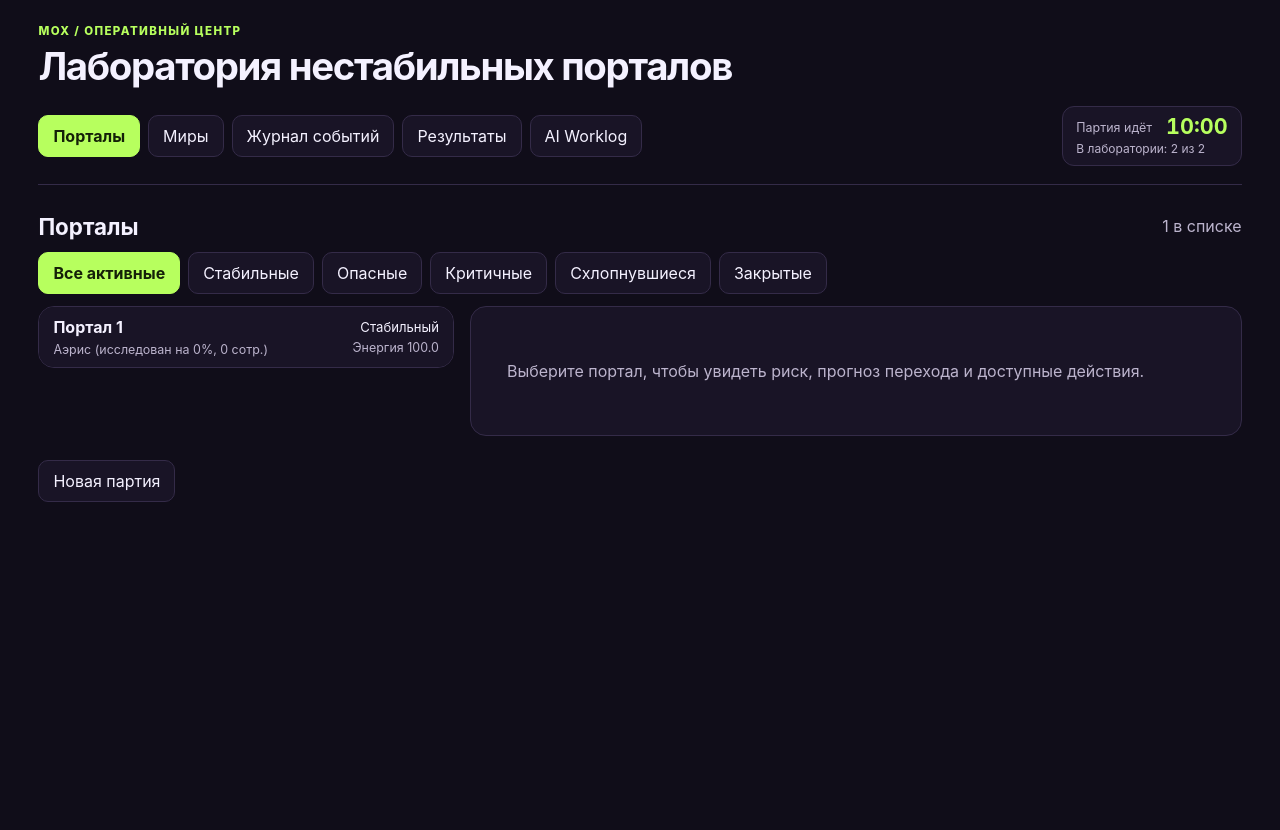
Test case: App › отправляет группу и возвращает её через выбранный портал
Click the button "Портал 1": point(88, 327) [39,307,453,367]
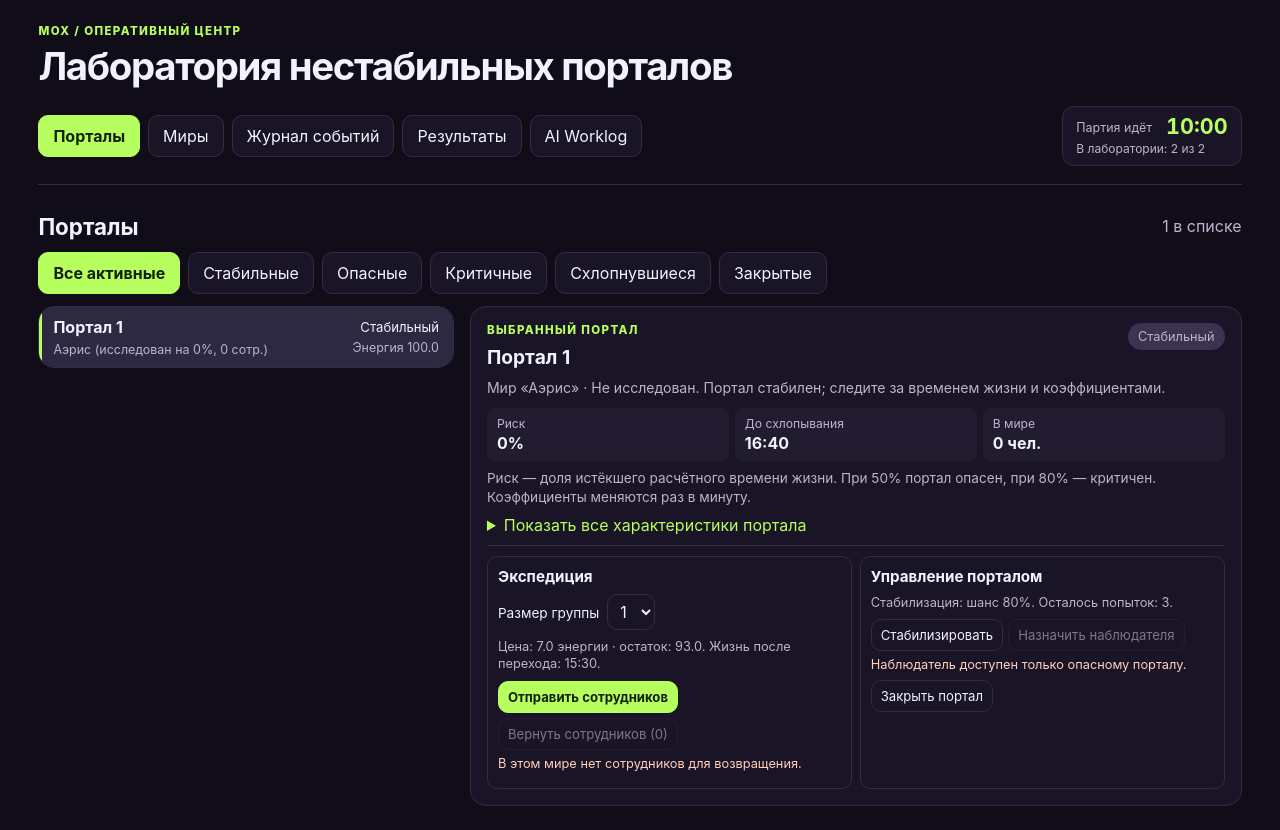
Select "2" in the dropdown labelled "Размер группы": point(631, 612) [607,594,655,630]
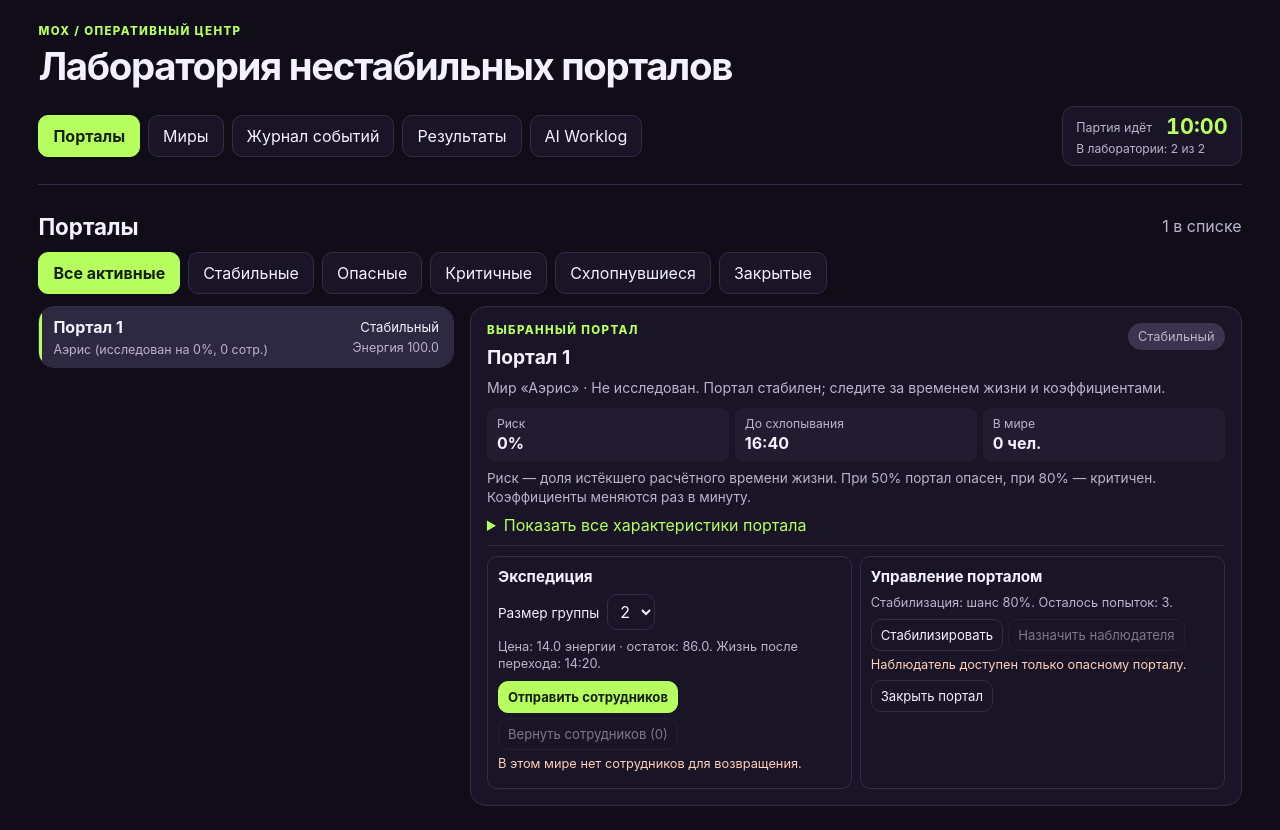
Click the button "Отправить сотрудников": point(588, 697) [498,681,678,713]
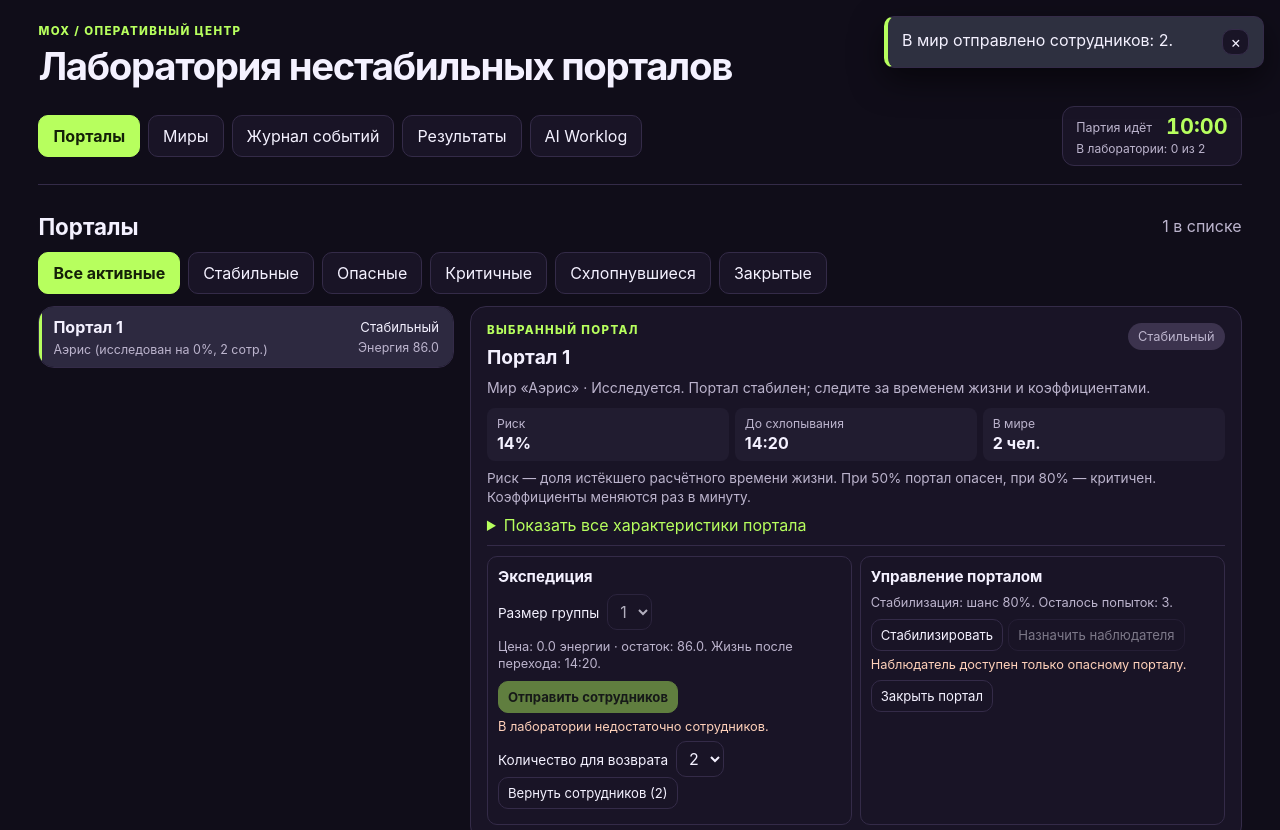
Expected: the text "В лаборатории: 0 из 2" is shown, [1076,141,1228,156]
Expected: the button "Вернуть сотрудников (2)" is enabled
Click the button "Вернуть сотрудников (2)": point(588, 793) [498,777,678,809]
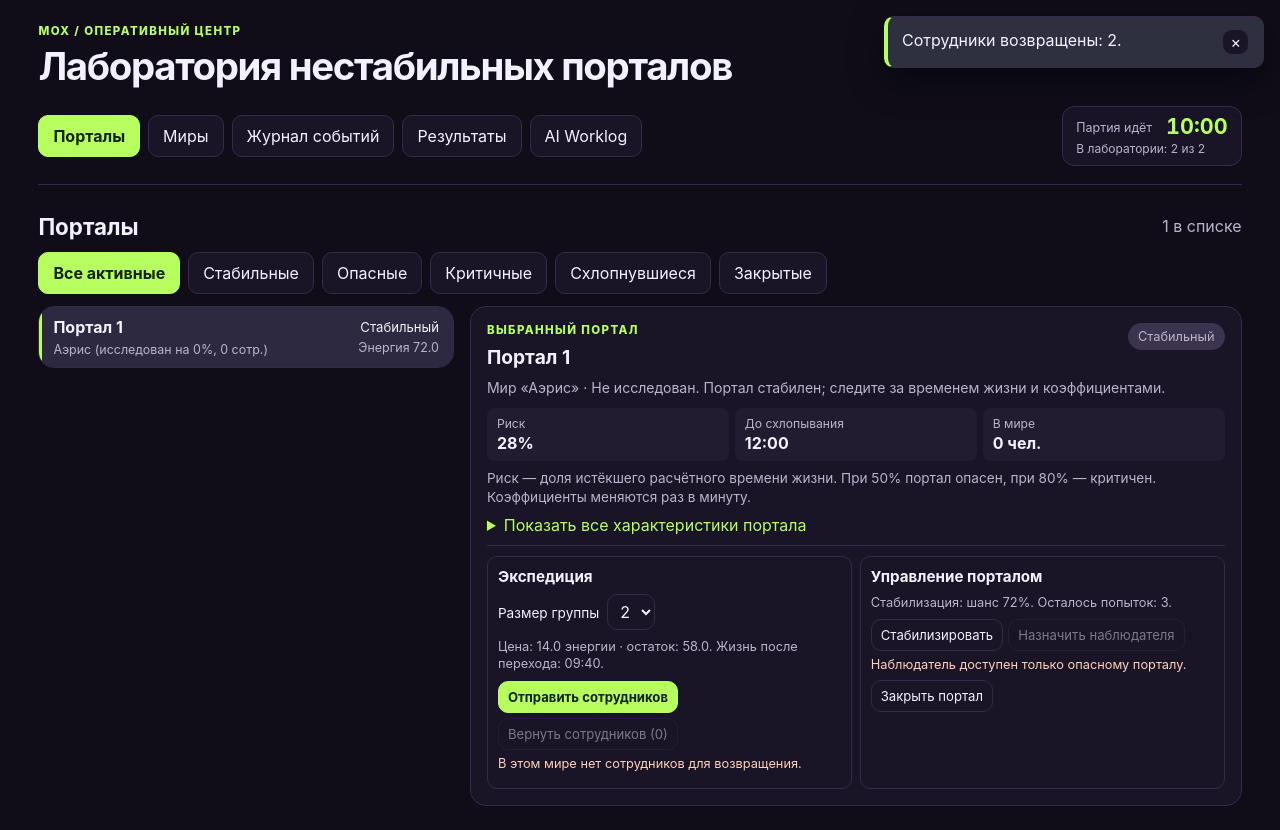
Expected: the text "В лаборатории: 2 из 2" is shown, [1076,141,1228,156]
